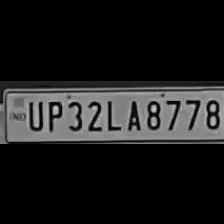2: (85, 96, 103, 132)
3: (65, 96, 83, 130)
7: (180, 95, 200, 129), (164, 96, 181, 130)
8: (140, 95, 162, 129), (200, 95, 222, 129)
A: (122, 96, 142, 130)
L: (104, 96, 122, 130)
P: (43, 97, 62, 131)
U: (25, 97, 43, 130)
